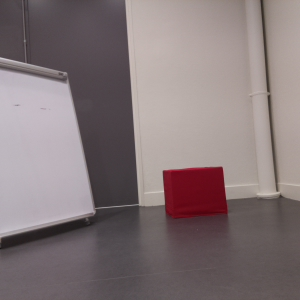big: (1, 64, 96, 237)
medium: (163, 167, 228, 217)
